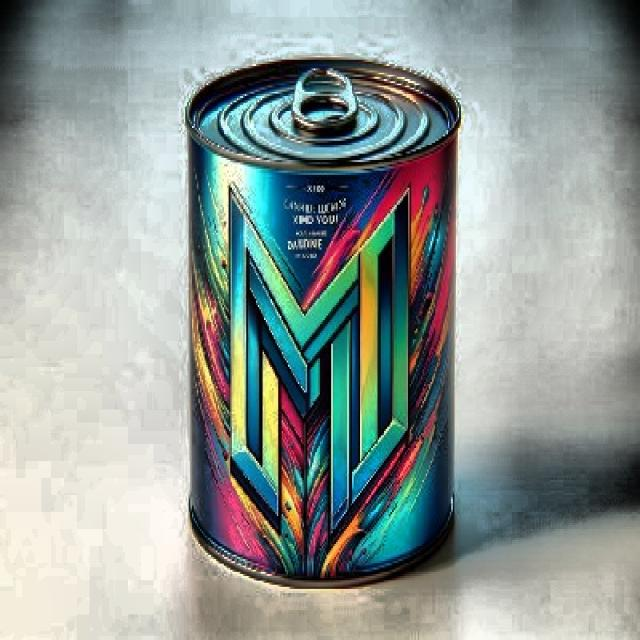can: (176, 39, 469, 594)
